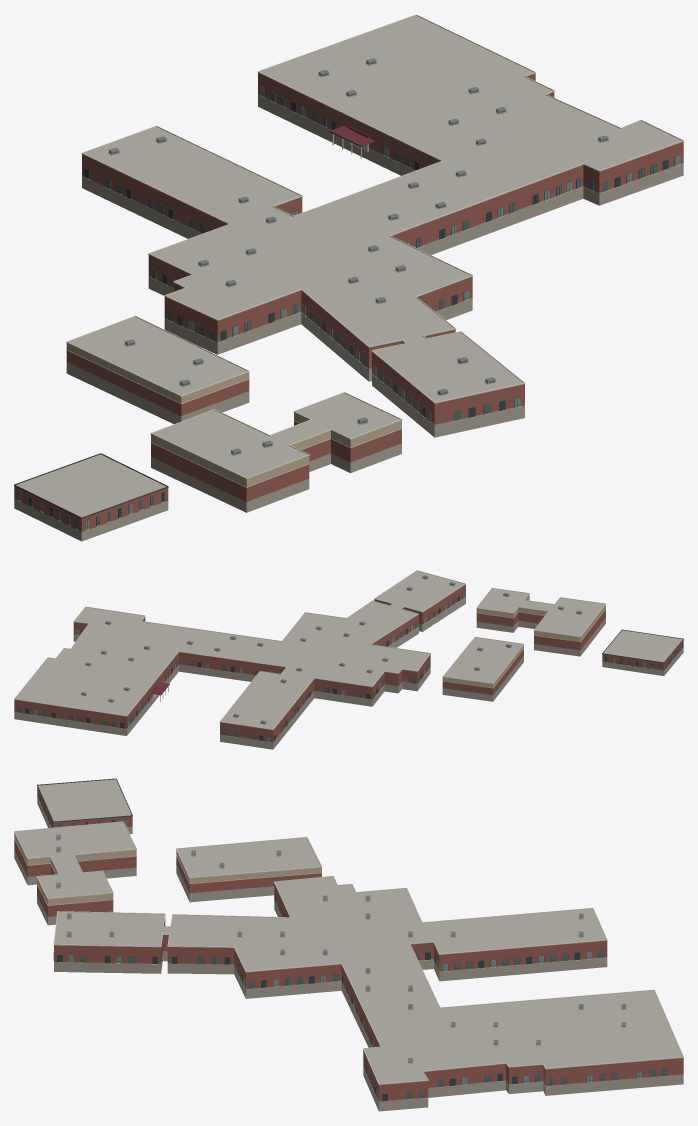
File: lafayette-high.glb
3 renders of one model, top to bottom at view 1: azimuth 30°, elevation 25°; view 2: azimuth 150°, elevation 25°; view 3: azimuth 270°, elevation 25°, orthographic. The views are drawn at different scales.
Parts seen in each view (by area): view 1: 634379354 | Roof, 634379354 | Shell and foundation, 634379354 | Facades, 634379356 | Shell and foundation, 634379356 | Roof; view 2: 634379354 | Roof, 634379354 | Shell and foundation, 634379354 | Facades, 634379356 | Shell and foundation, 634379356 | Roof; view 3: 634379354 | Roof, 634379354 | Shell and foundation, 634379354 | Facades, 634379356 | Shell and foundation, 634379356 | Roof.
Boxes of the visible parts, x1,y1,x2,y2 form: 634379354 | Roof: (16,15,681,517); 634379354 | Shell and foundation: (14,63,683,541); 634379354 | Facades: (14,14,683,530); 634379356 | Shell and foundation: (66,343,401,487); 634379356 | Roof: (109,58,608,454); 634379354 | Roof: (15,571,682,729); 634379354 | Shell and foundation: (14,578,683,749); 634379354 | Facades: (14,570,683,742); 634379356 | Shell and foundation: (442,594,605,687); 634379356 | Roof: (81,575,582,723); 634379354 | Roof: (15,779,682,1083); 634379354 | Shell and foundation: (14,787,683,1111); 634379354 | Facades: (14,778,683,1101); 634379356 | Shell and foundation: (14,833,321,905); 634379356 | Roof: (56,834,626,1062).
Size of the model in its own units: 212 by 10.34 by 188.
